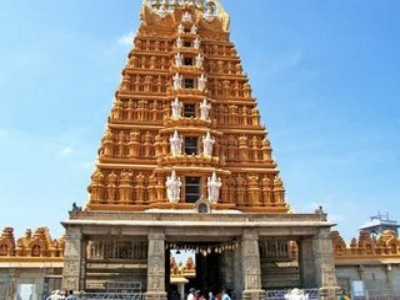gopura: (81, 4, 318, 219)
